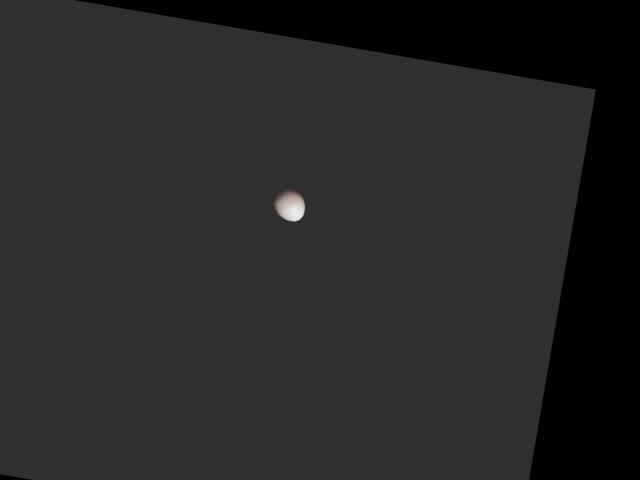egg: (269, 185, 307, 222)
